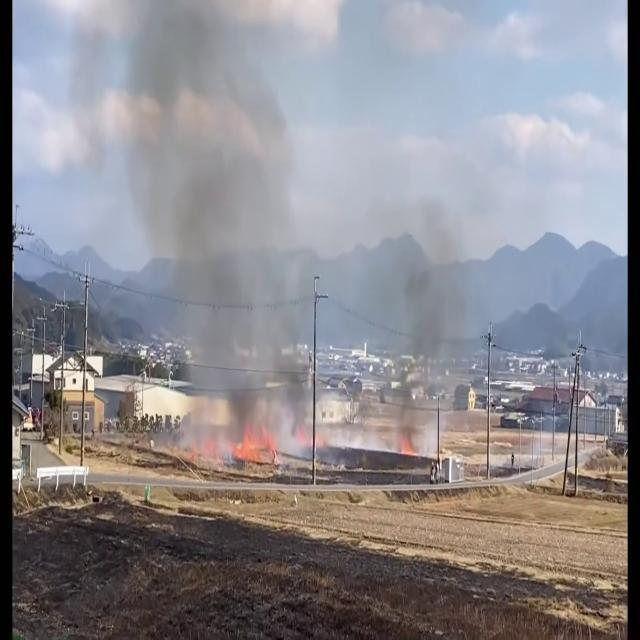Smoke: (128, 0, 314, 457), (331, 76, 481, 444)
